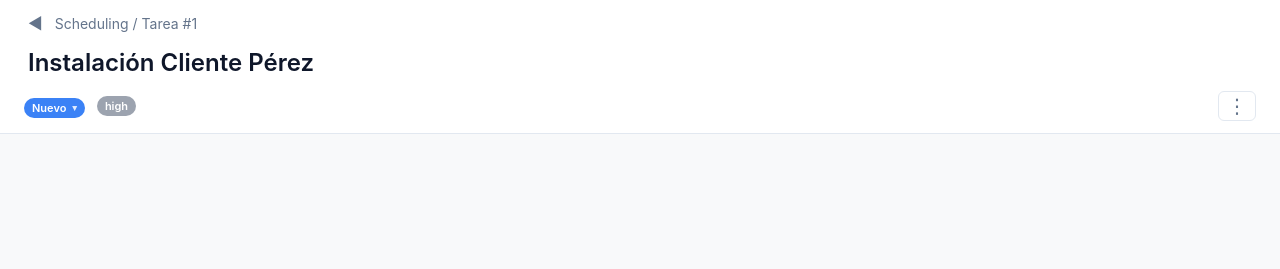
Scenario: TaskHeader › open task shows "Cerrar tarea" and "Descartar tarea"
The width and height of the screenshot is (1280, 269).
Click the button with test id "kebab-menu".
click(1237, 106)  # box [1218,91,1256,121]
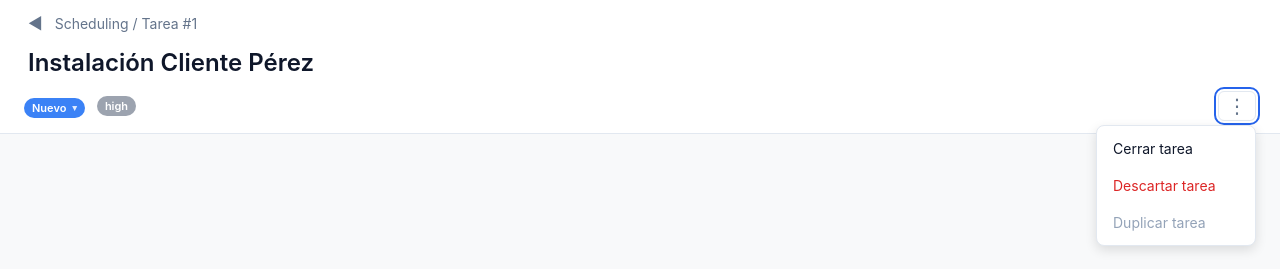
Result: the menu item with test id "kebab-close" reads "Cerrar tarea" at [1101,130,1251,167]
Result: the menu item with test id "kebab-dismiss" reads "Descartar tarea" at [1101,167,1251,204]
